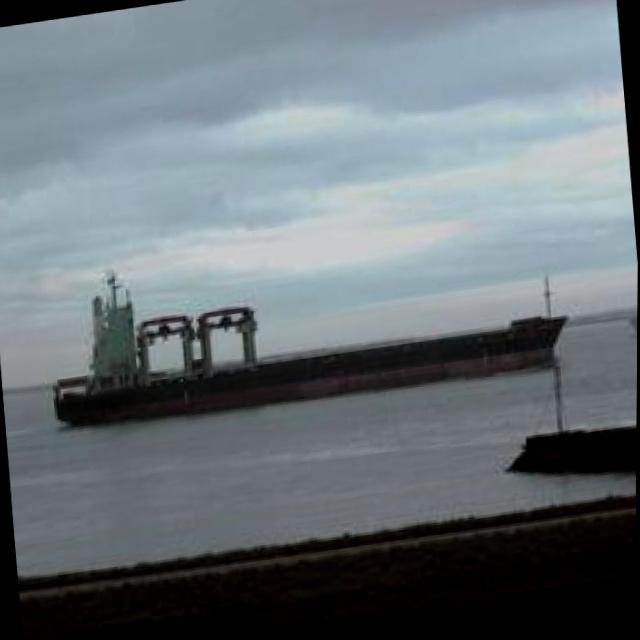ship2: (53, 280, 566, 426)
